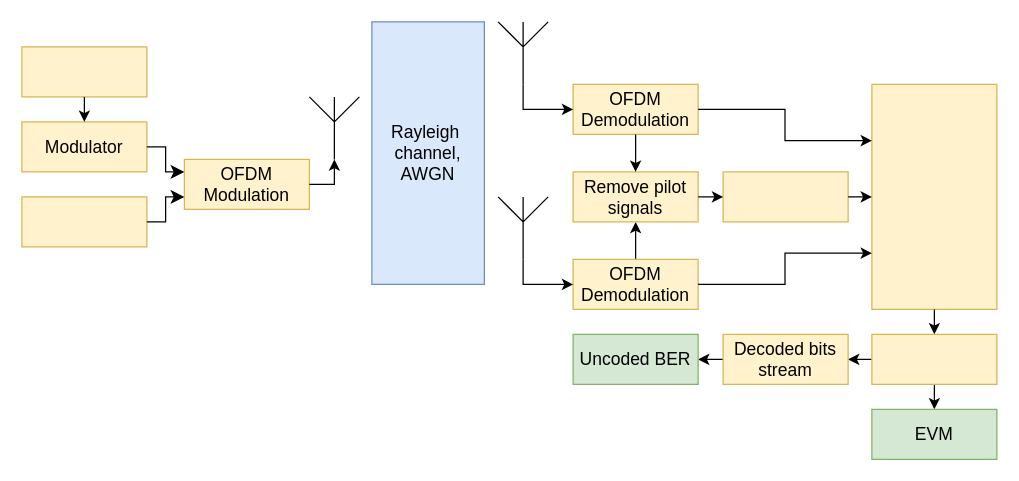
This 1019x481 diagram has some shape labels left out. Here are the shapes that lost their labels. From the top down, the box of each, then its label:
(21, 46, 147, 97): Bits stream
(722, 171, 848, 222): Channel Estimation
(871, 83, 997, 309): Equalizer
(21, 196, 147, 247): Pilot signals
(871, 333, 997, 384): Demodulator
